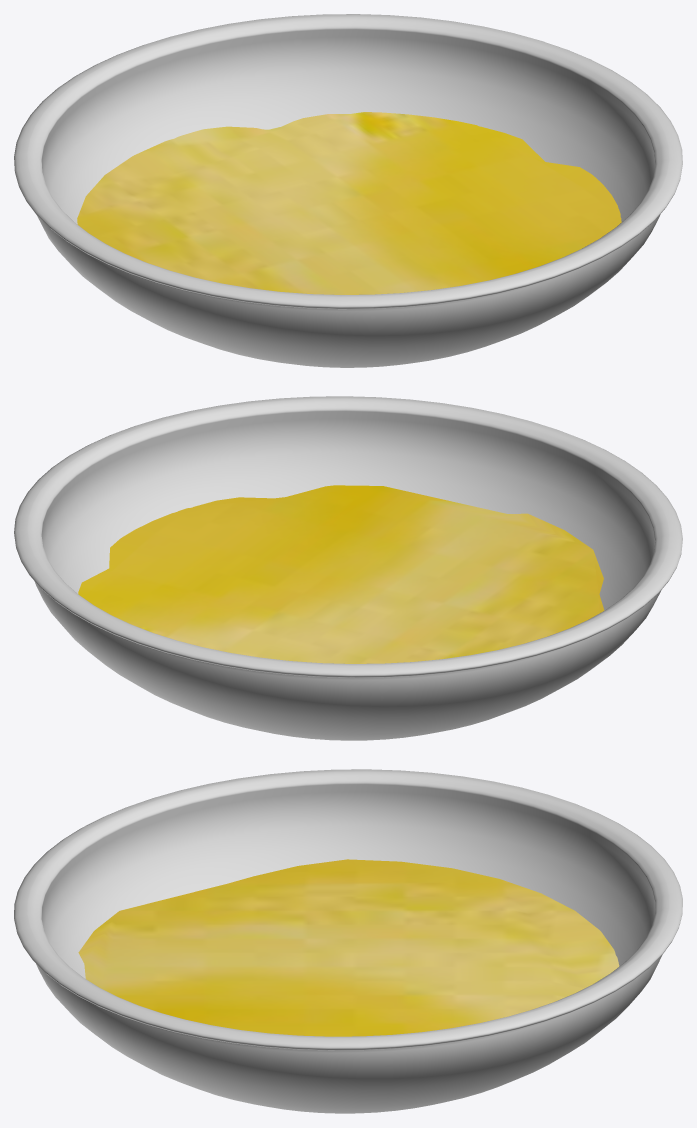
Rendered from MELTEDBUTTER.glb.
3 views of the same model, one above another, from view 1: azimuth 30°, elevation 25°; view 2: azimuth 150°, elevation 25°; view 3: azimuth 270°, elevation 25° (orthographic).
Parts seen in each view (by area): view 1: Object_2, Cylinder; view 2: Object_2, Cylinder; view 3: Object_2, Cylinder.
Boxes of the visible parts, box(x1,y1,x2,y2) form: Object_2: box(14, 14, 682, 367); Cylinder: box(77, 112, 621, 294); Object_2: box(14, 396, 682, 740); Cylinder: box(78, 485, 604, 663); Object_2: box(14, 769, 682, 1113); Cylinder: box(78, 859, 619, 1036).
Size of the model in its own units: 4.68 by 1.1 by 4.68.
Materials: 2 (1 with a texture image).
